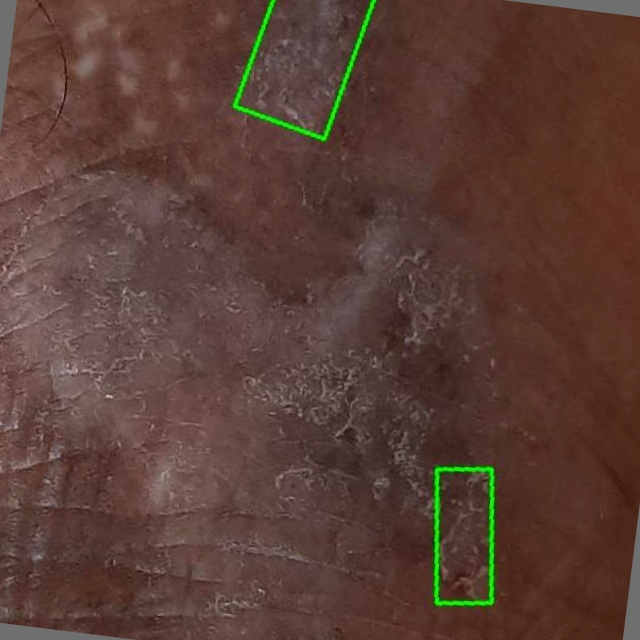Eczema: (235, 0, 374, 138), (437, 468, 492, 602)
